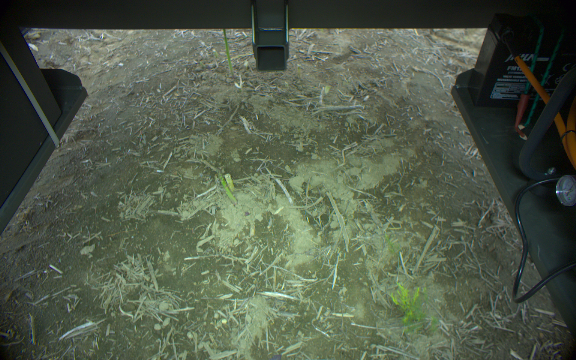aspa: (212, 171, 236, 205), (220, 29, 234, 76)
